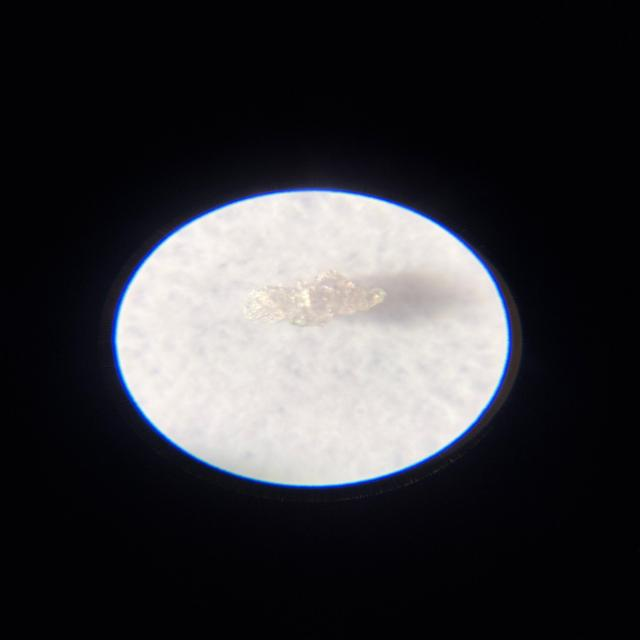microplastic_type_1: (244, 270, 386, 327)
